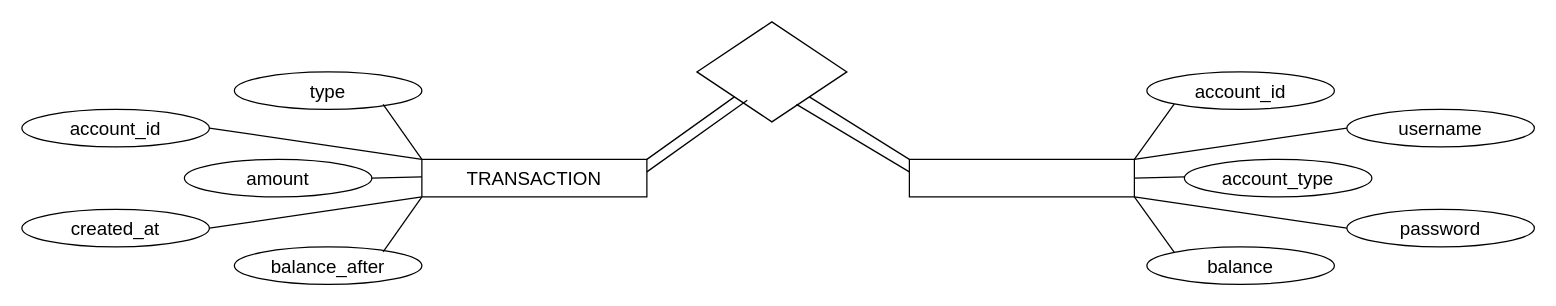
Some shapes in this 1556 by 306 pixel diagram are drawn without their labels. The shapes that lost their labels are listed below. From the top down, each one's centre as x and y in pixels, then its label:
At (771,71): "MANAGES".
At (1021,177): "ACCOUNT".
